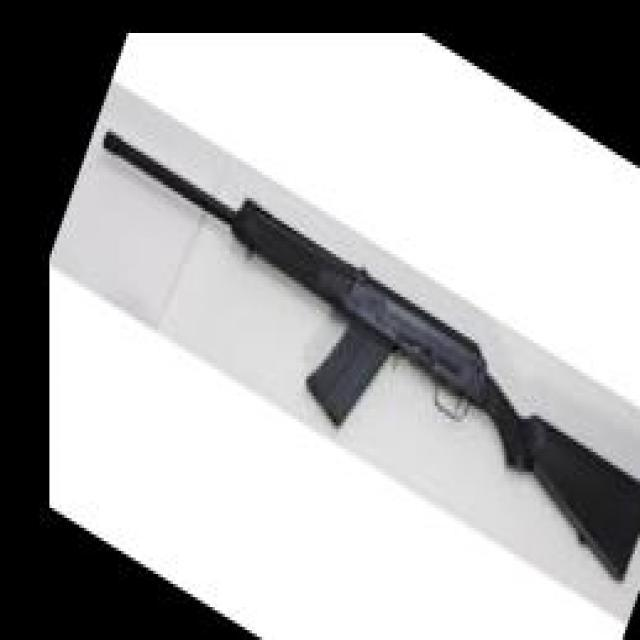weapon: (101, 128, 640, 582)
